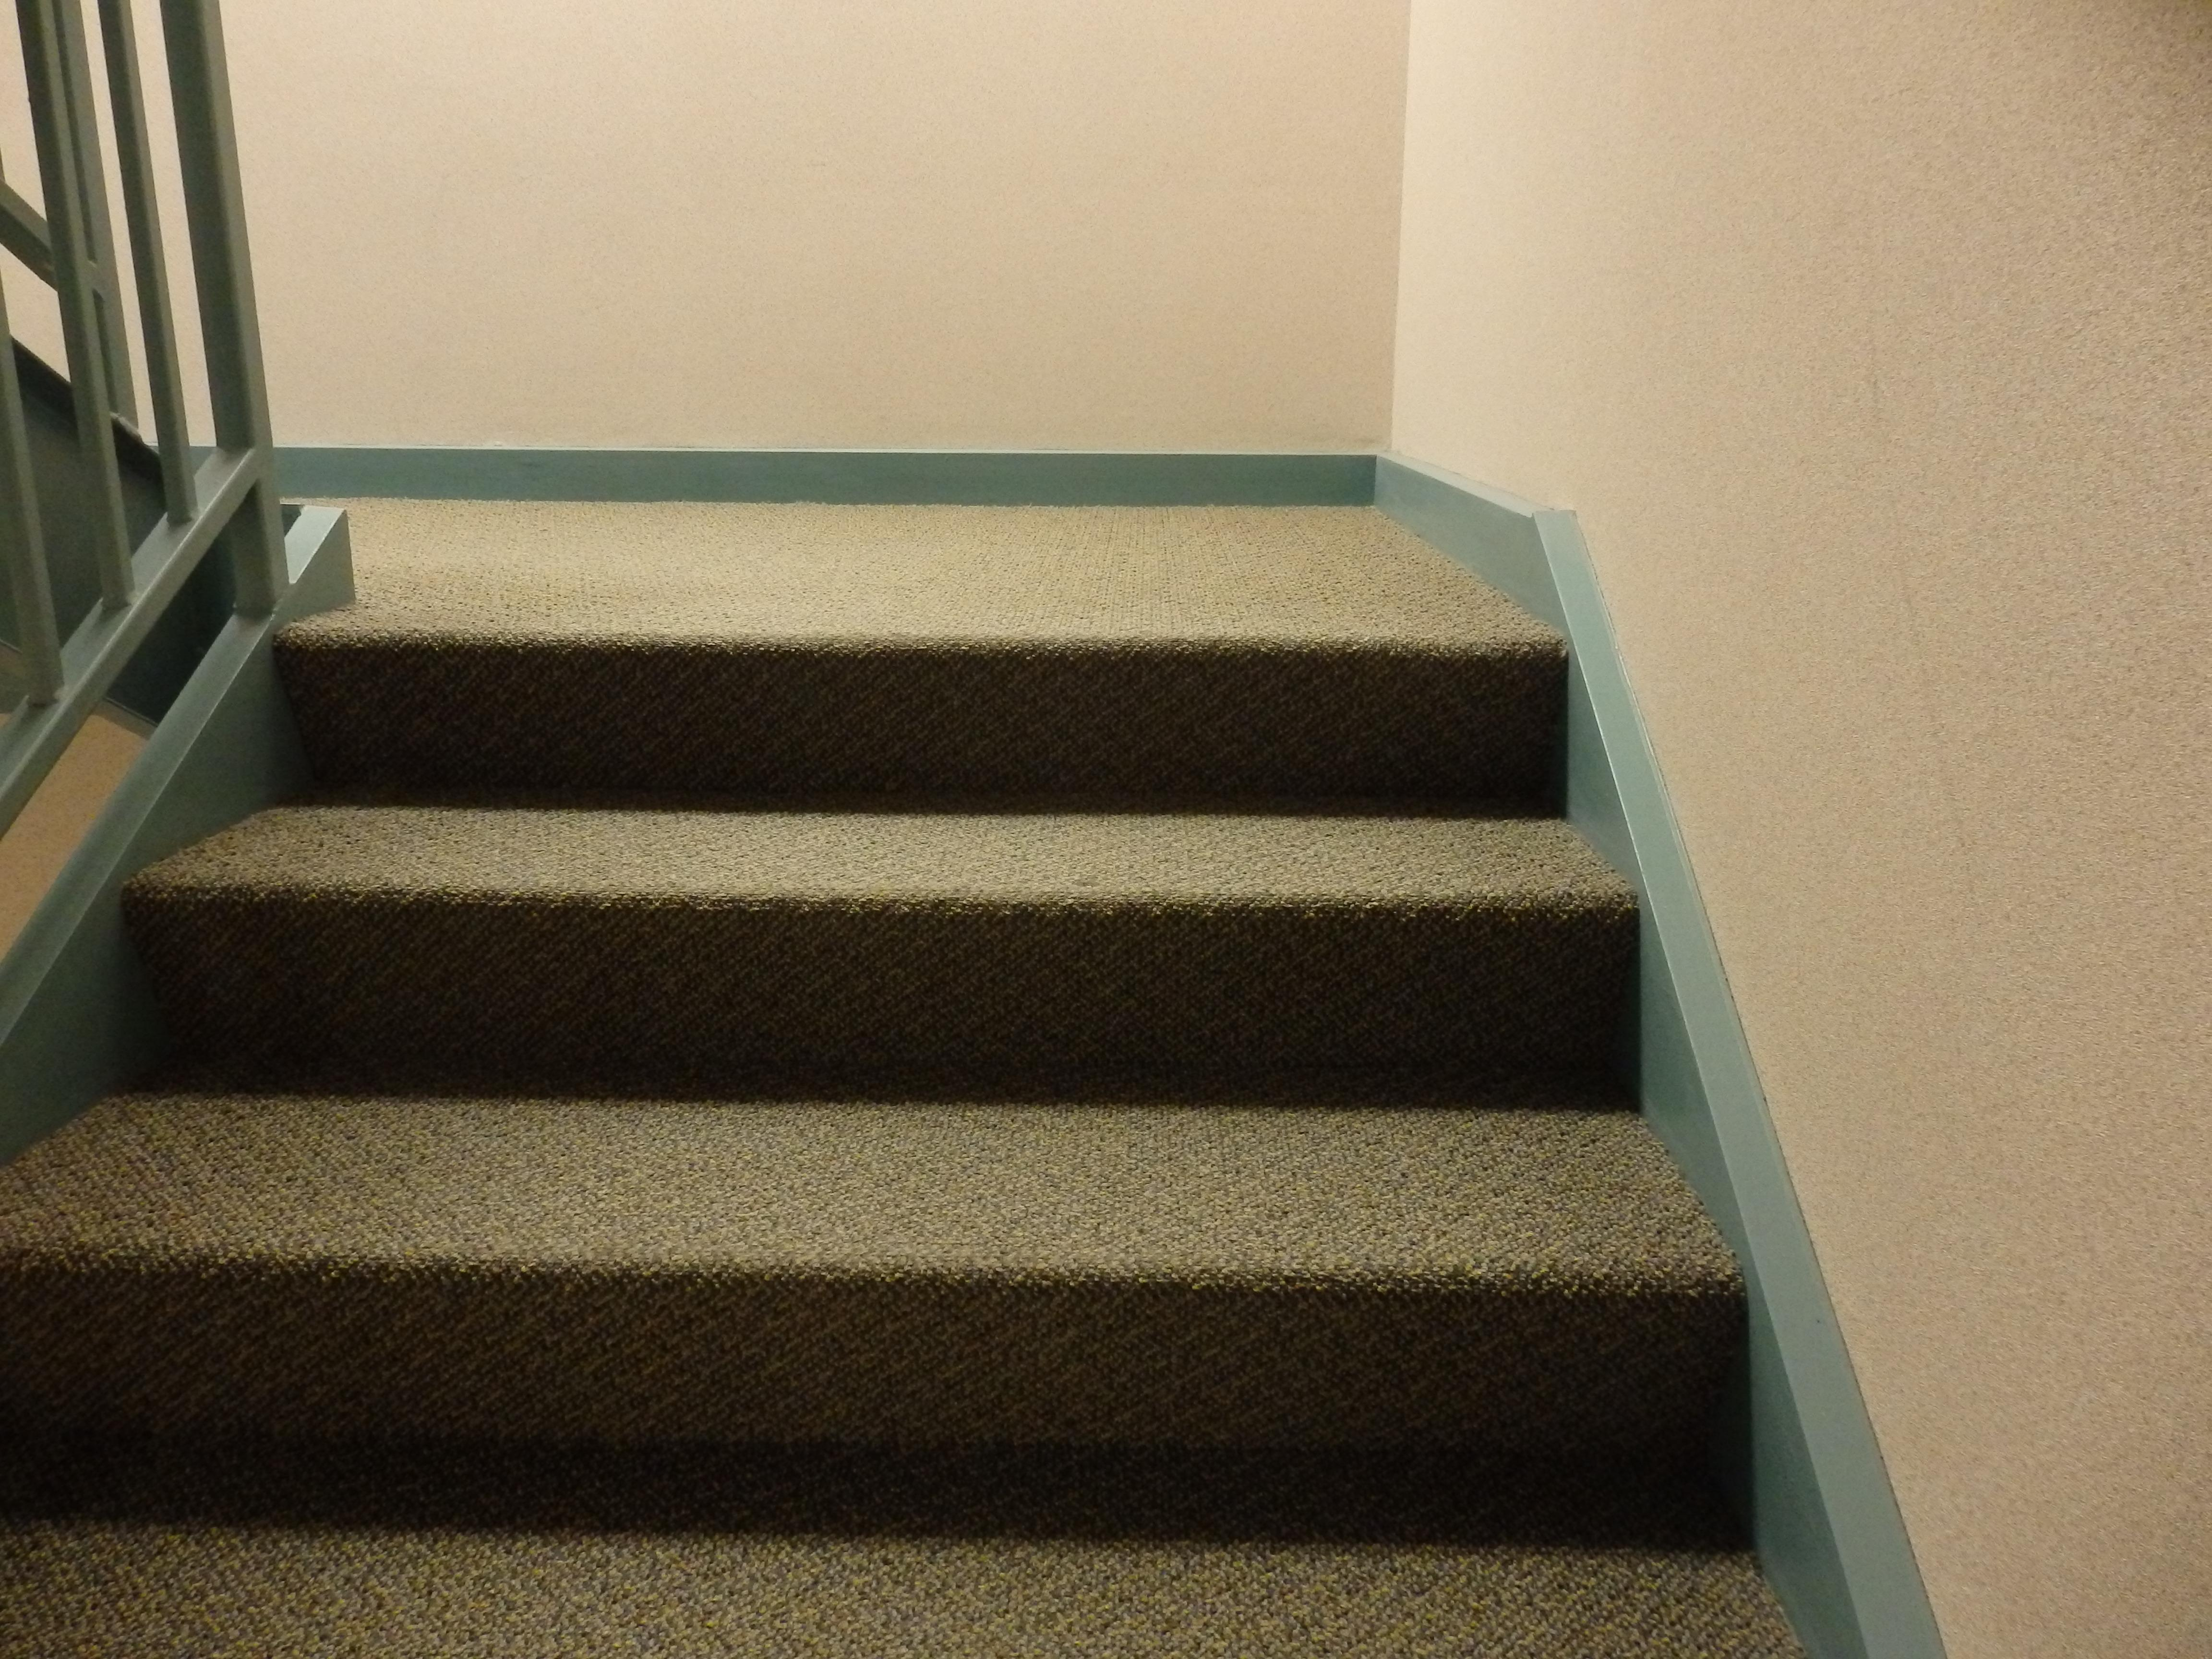stairs_up: (84, 537, 1726, 1631)
